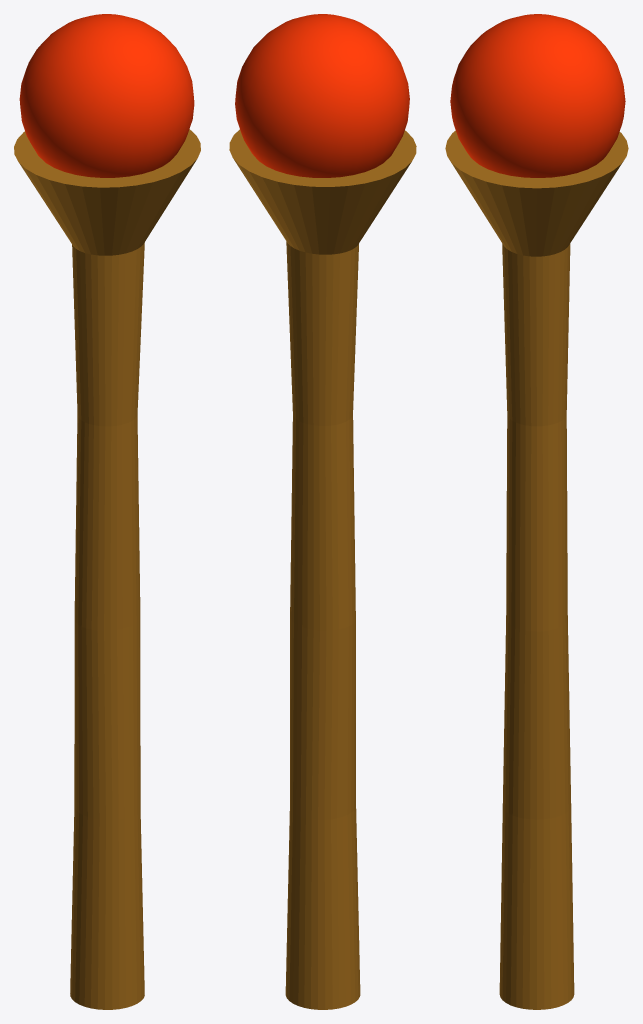
File: torch.fbx
3 renders of one model, left to right at view 1: azimuth 30°, elevation 25°; view 2: azimuth 150°, elevation 25°; view 3: azimuth 270°, elevation 25°, orthographic.
Visible parts, largest first — view 1: Cylinder, Sphere; view 2: Cylinder, Sphere; view 3: Cylinder, Sphere.
Boxes of the visible parts, bbox=[...] form: Cylinder: bbox=[14, 129, 200, 1009]; Sphere: bbox=[19, 14, 194, 177]; Cylinder: bbox=[229, 129, 416, 1009]; Sphere: bbox=[235, 14, 409, 177]; Cylinder: bbox=[445, 130, 628, 1009]; Sphere: bbox=[450, 14, 625, 177].
Bounding box in the file's own units: 43.16 × 245 × 41.81.
